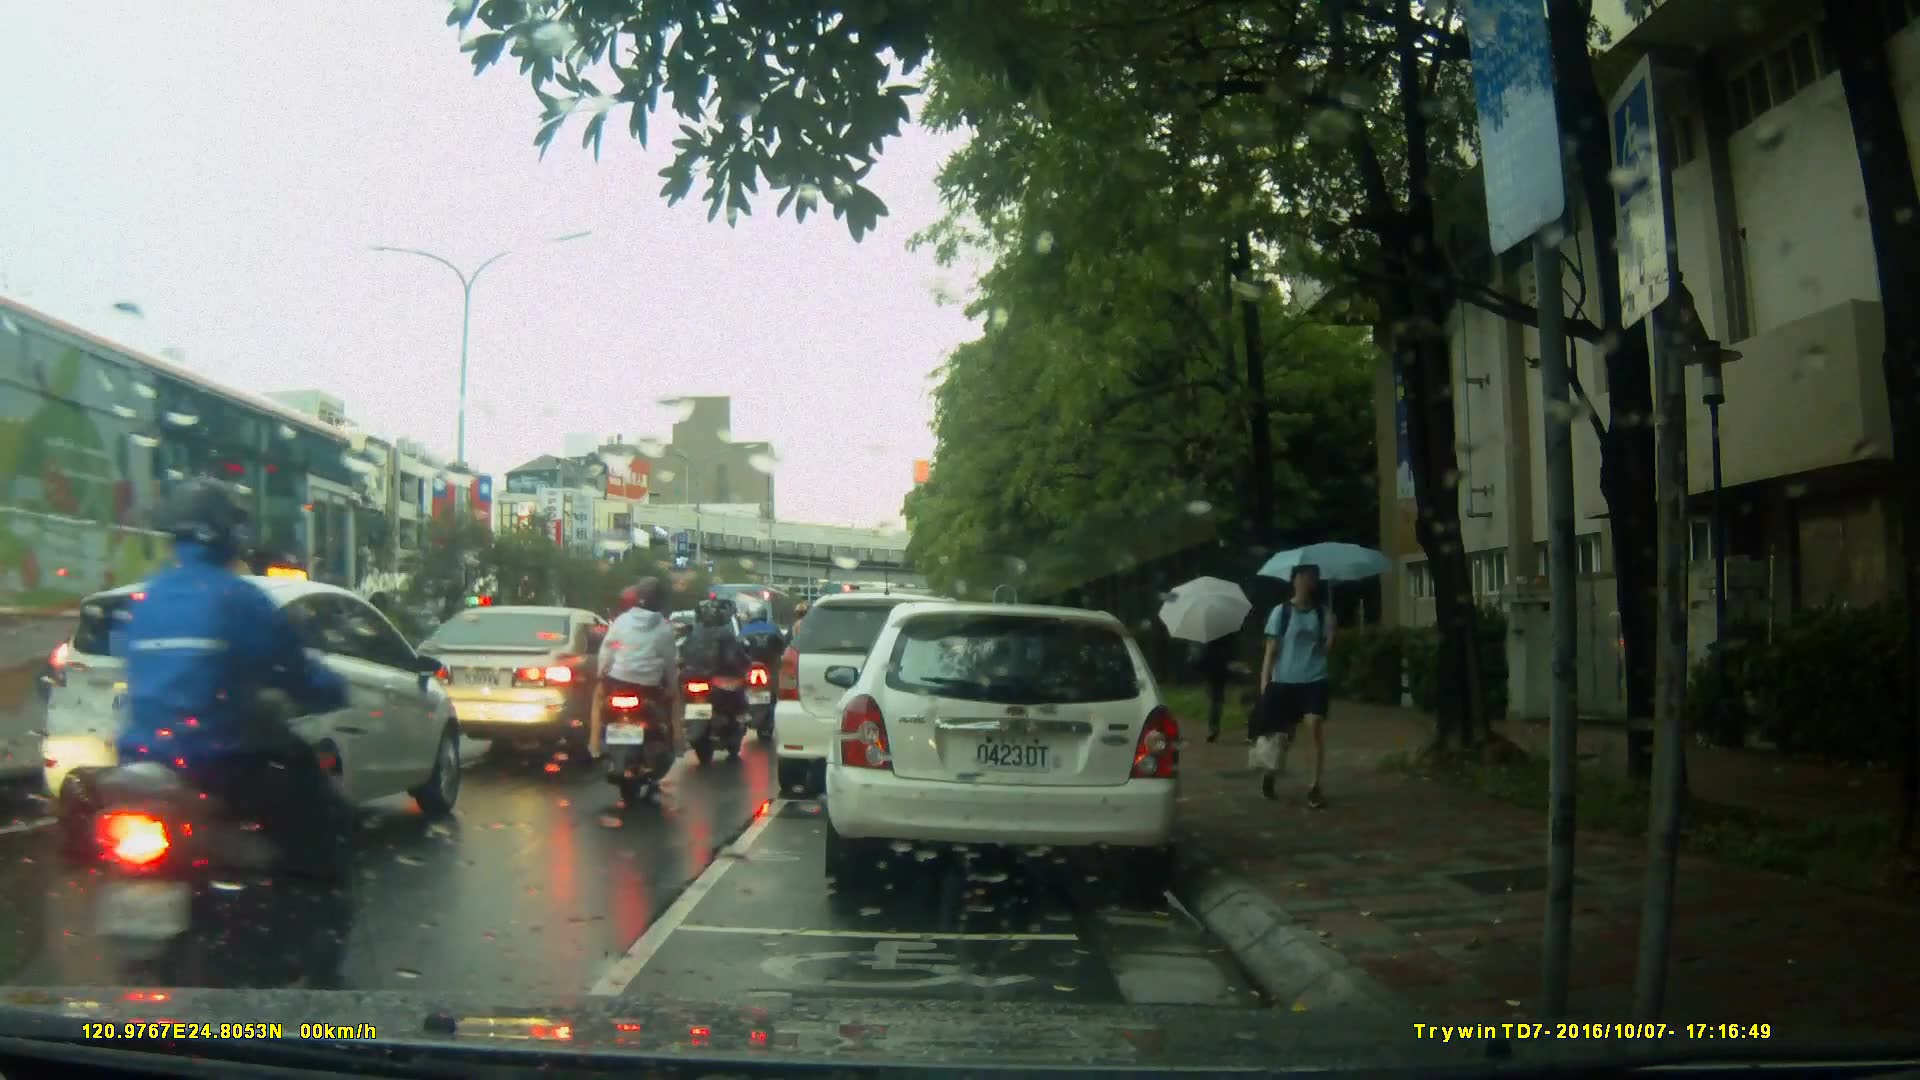pedestrian: (1240, 553, 1341, 817), (1196, 600, 1245, 739)
rider: (86, 484, 362, 1007), (594, 578, 688, 815), (680, 594, 738, 771), (732, 597, 790, 744), (788, 600, 824, 724)
vehicle: (1, 292, 366, 768), (40, 572, 466, 873), (835, 594, 1194, 898), (776, 590, 1026, 784), (387, 603, 645, 765), (603, 619, 728, 716), (707, 582, 806, 672)
